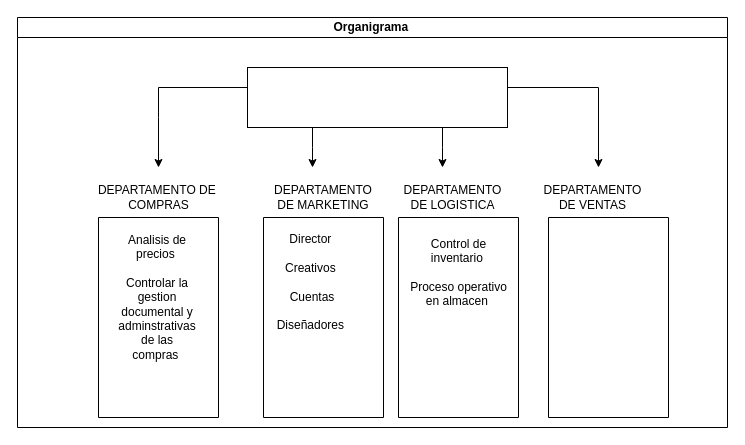
This 745x445 diagram has some shape labels left out. The shapes that lost their labels are listed below. From the top down, each one's centre as x and y in pixels, then its label:
the point at 377,97: ROBERT CORTEZ BRYAN DIAZ
the point at 608,317: Director Comercial Jefes de ventas
